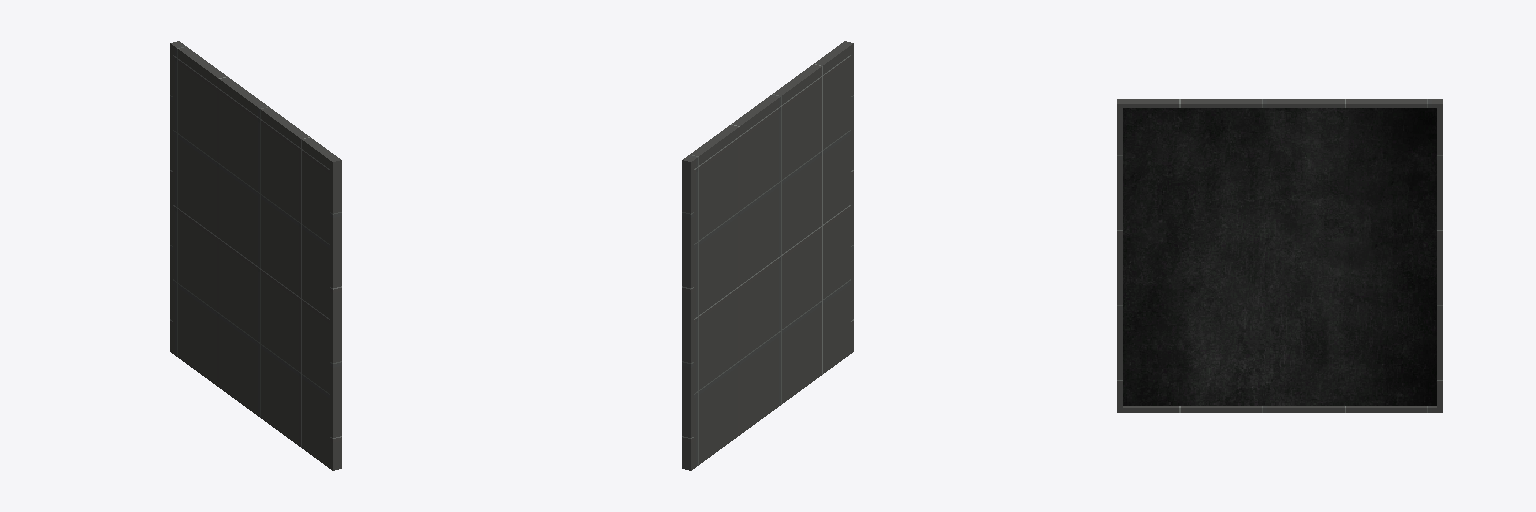
The picture shows the model from 3 angles: view 1: azimuth 30°, elevation 25°; view 2: azimuth 150°, elevation 25°; view 3: azimuth 270°, elevation 25°; orthographic projection.
Parts seen in each view (by area): view 1: 4, 7, 5, 3, 6; view 2: 4, 3, 5, 7, 6; view 3: 4, 5, 6, 3, 7.
Boxes of the visible parts, x1=… form: 4: x1=173, y1=50, x2=329, y2=463; 7: x1=330, y1=158, x2=341, y2=470; 5: x1=173, y1=43, x2=337, y2=163; 3: x1=170, y1=41, x2=180, y2=353; 6: x1=173, y1=350, x2=329, y2=468; 4: x1=694, y1=50, x2=850, y2=463; 3: x1=682, y1=158, x2=693, y2=470; 5: x1=686, y1=43, x2=850, y2=163; 7: x1=843, y1=41, x2=853, y2=353; 6: x1=694, y1=350, x2=850, y2=468; 4: x1=1123, y1=108, x2=1436, y2=405; 5: x1=1123, y1=99, x2=1436, y2=107; 6: x1=1123, y1=406, x2=1436, y2=412; 3: x1=1437, y1=99, x2=1442, y2=412; 7: x1=1117, y1=99, x2=1122, y2=412.
Size of the model in its own units: 2 by 66 by 63.
Materials: 2 (2 with a texture image).